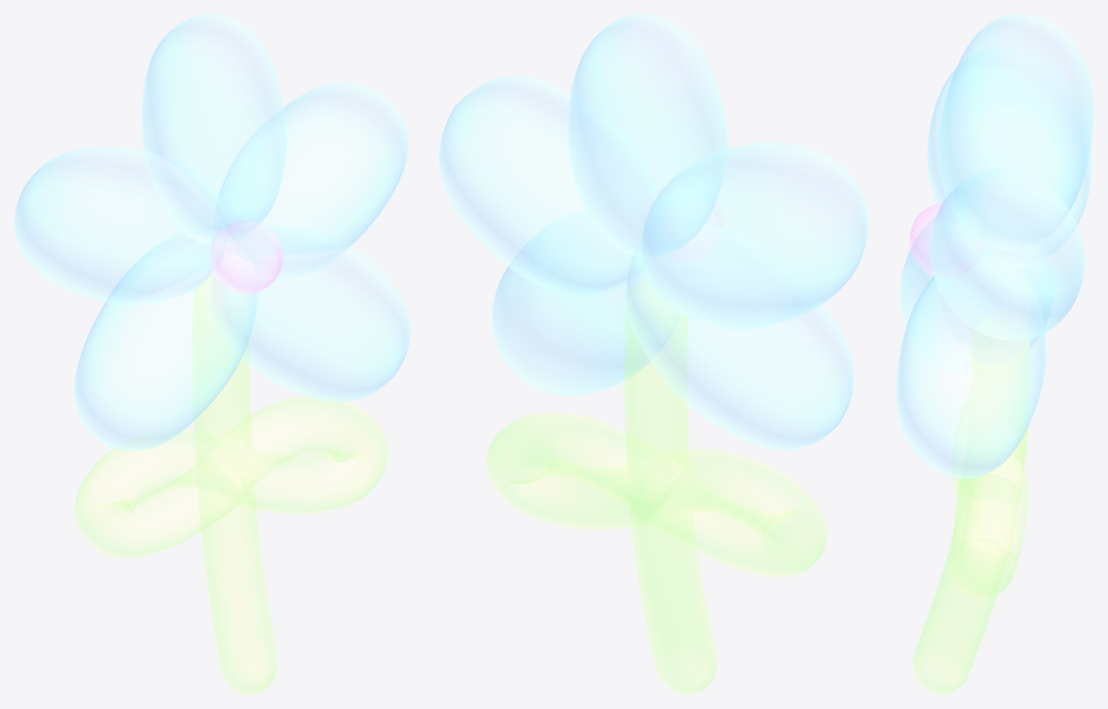
Rendered from flower.fbx.
3 renders of one model, left to right at view 1: azimuth 30°, elevation 25°; view 2: azimuth 150°, elevation 25°; view 3: azimuth 270°, elevation 25°, orthographic. The views are drawn at different scales.
Visible parts, largest first — view 1: Sphere_1_1, Sphere_1, Sphere_1_4, Sphere_1_3, Sphere_1_2, Capsule, Sweep, Sweep_1, Sphere; view 2: Sphere_1_1, Sphere_1_3, Sphere_1, Sphere_1_4, Capsule, Sphere_1_2, Sweep, Sweep_1; view 3: Sphere_1_4, Sphere_1_2, Sphere_1_3, Sphere_1, Capsule, Sweep_1, Sphere_1_1, Sphere, Sweep.
Boxes of the visible parts, x1=… form: Sphere_1_1: x1=74, y1=230, x2=257, y2=451; Sphere_1: x1=14, y1=146, x2=227, y2=305; Sphere_1_4: x1=142, y1=14, x2=286, y2=244; Sphere_1_3: x1=219, y1=82, x2=408, y2=280; Sphere_1_2: x1=210, y1=227, x2=410, y2=402; Capsule: x1=192, y1=273, x2=276, y2=694; Sweep: x1=74, y1=429, x2=256, y2=557; Sweep_1: x1=199, y1=397, x2=387, y2=514; Sphere: x1=209, y1=220, x2=282, y2=294; Sphere_1_1: x1=625, y1=224, x2=854, y2=450; Sphere_1_3: x1=439, y1=76, x2=658, y2=296; Sphere_1: x1=642, y1=142, x2=867, y2=330; Sphere_1_4: x1=568, y1=14, x2=727, y2=256; Capsule: x1=624, y1=279, x2=716, y2=694; Sphere_1_2: x1=492, y1=211, x2=678, y2=396; Sweep: x1=622, y1=449, x2=827, y2=577; Sweep_1: x1=486, y1=413, x2=685, y2=529; Sphere_1_4: x1=938, y1=14, x2=1093, y2=250; Sphere_1_2: x1=896, y1=254, x2=1046, y2=478; Sphere_1_3: x1=930, y1=168, x2=1084, y2=340; Sphere_1: x1=927, y1=48, x2=1091, y2=255; Capsule: x1=913, y1=330, x2=1028, y2=694; Sweep_1: x1=951, y1=455, x2=1028, y2=598; Sphere_1_1: x1=900, y1=216, x2=1053, y2=376; Sphere: x1=909, y1=202, x2=984, y2=275; Sweep: x1=952, y1=397, x2=1028, y2=500.
Size of the model in its own units: 210 by 345 by 91.58.
